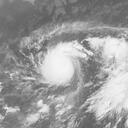cyclone: (40, 39, 86, 89)
